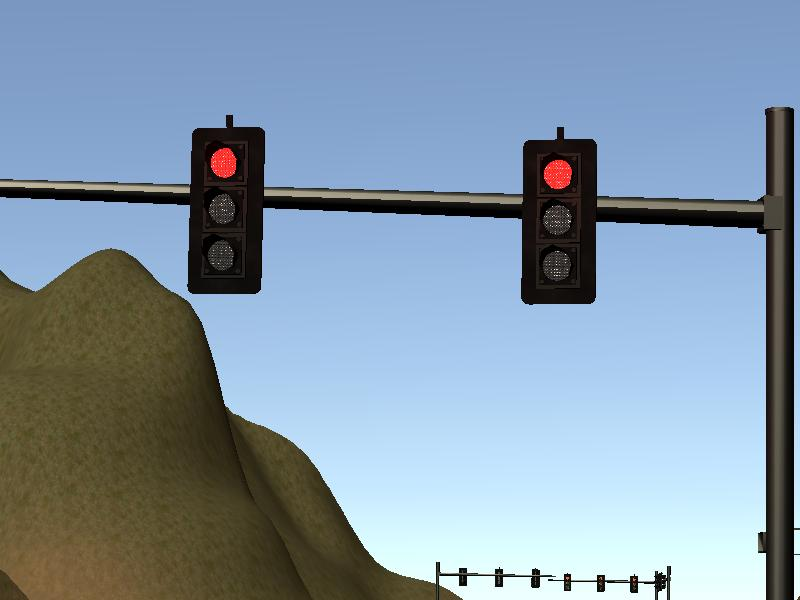red: (185, 127, 262, 295), (520, 138, 598, 303)
